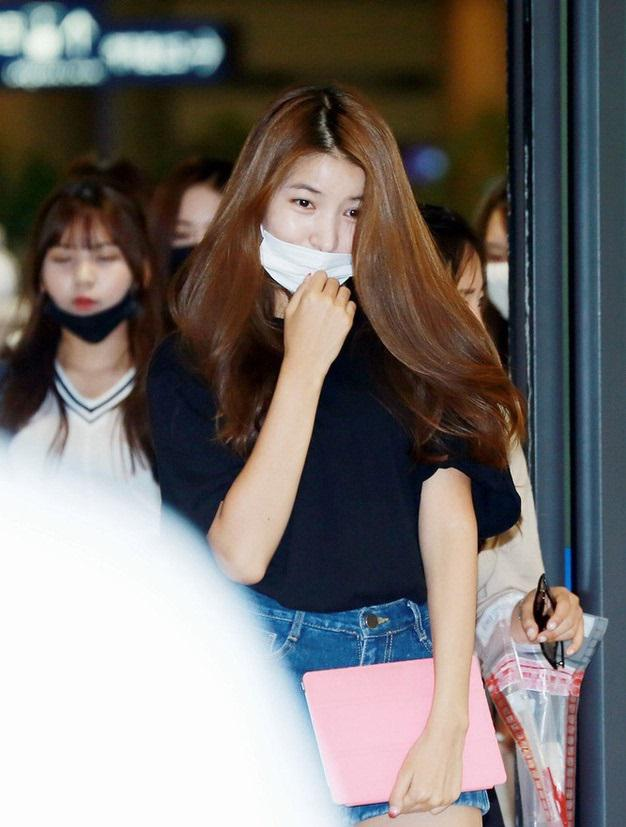NONE: (49, 233, 136, 337)
WRONG: (261, 177, 375, 289)
